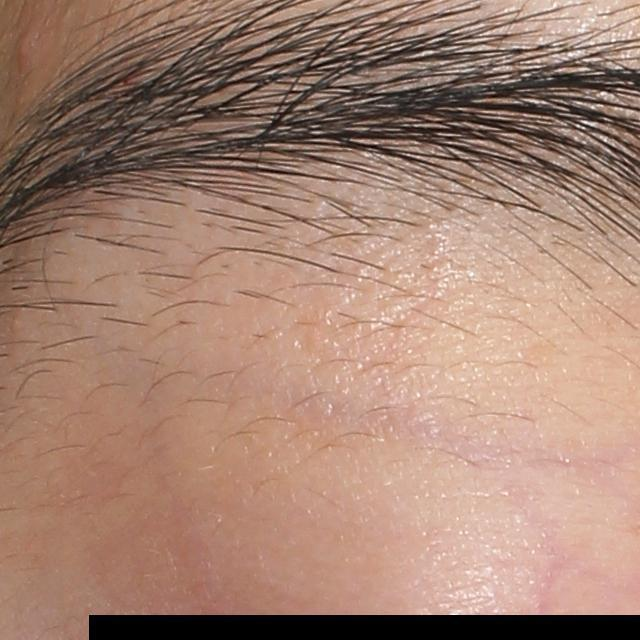papule: (12, 17, 44, 69)
